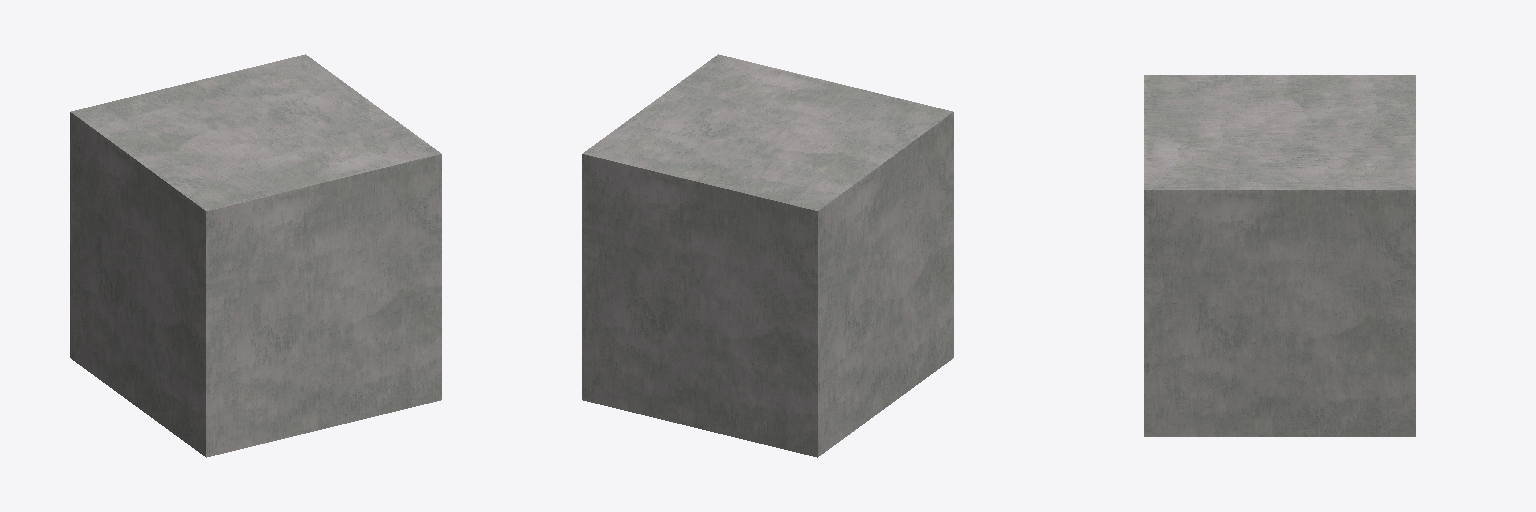
3 renders of one model, left to right at view 1: azimuth 30°, elevation 25°; view 2: azimuth 150°, elevation 25°; view 3: azimuth 270°, elevation 25°, orthographic.
Parts seen in each view (by area): view 1: roof_Cube.001; view 2: roof_Cube.001; view 3: roof_Cube.001.
Boxes of the visible parts, box(x1,y1,x2,y2) form: roof_Cube.001: box(70, 54, 441, 457); roof_Cube.001: box(582, 54, 953, 457); roof_Cube.001: box(1144, 75, 1415, 436).
Bounding box in the file's own units: 2 × 2 × 2.
Materials: 1 (1 with a texture image).